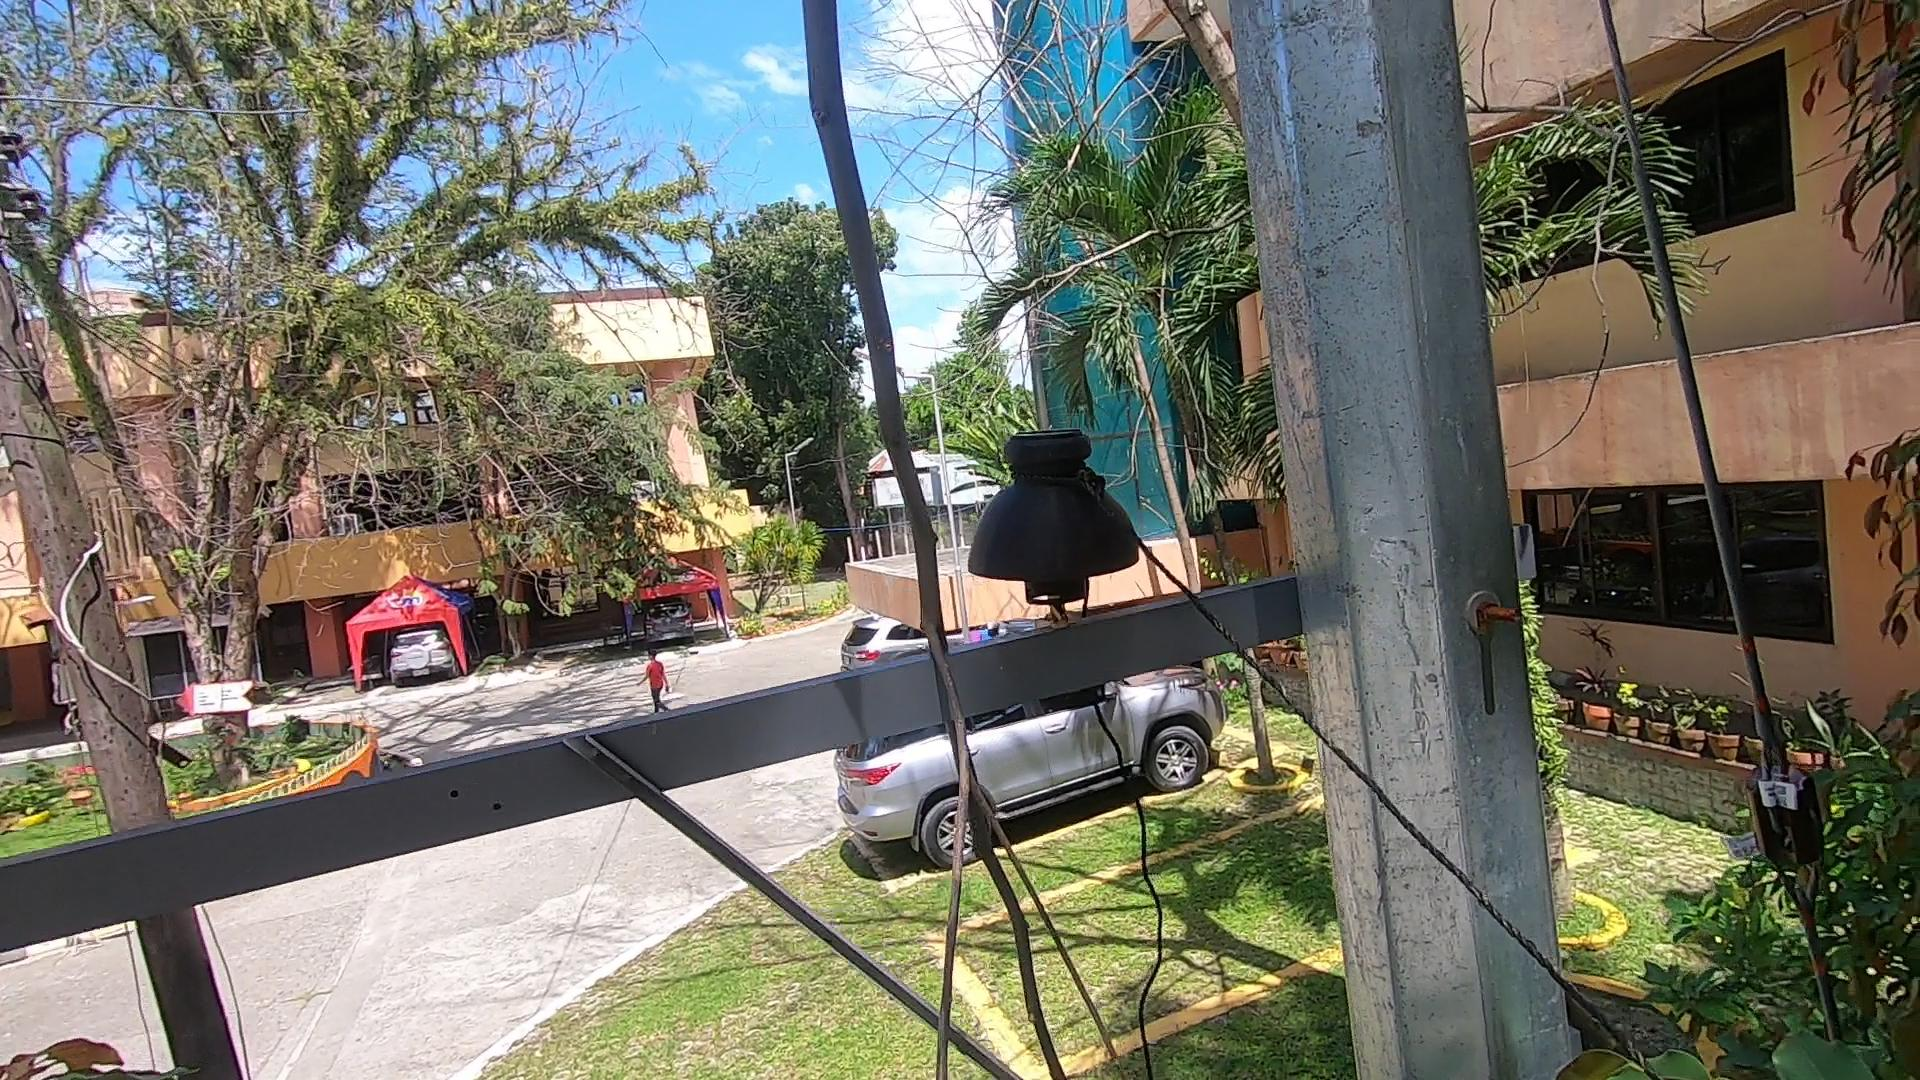tree branch: (727, 3, 1124, 1080)
